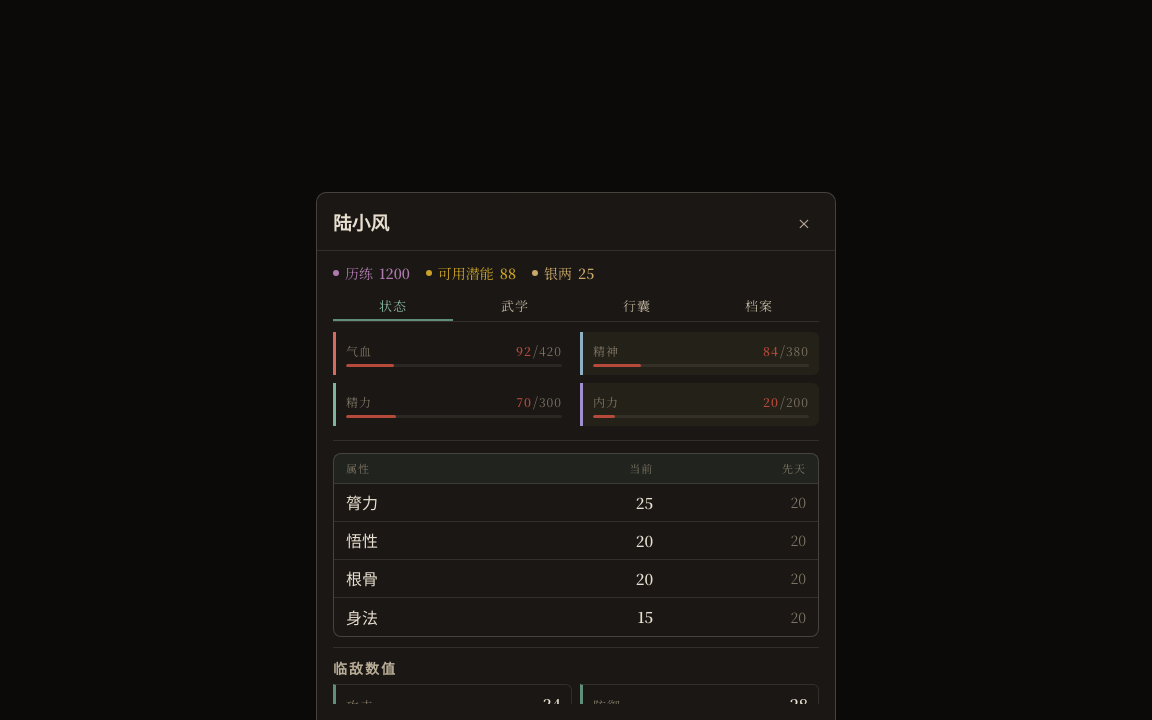
Scenario: CharacterSheet（角色面板） › 武学页：全未学时临敌给出空态说明
This screenshot has width=1152, height=720.
Click the tab "武学".
click(515, 307)  # box x1=455 y1=293 x2=575 y2=321
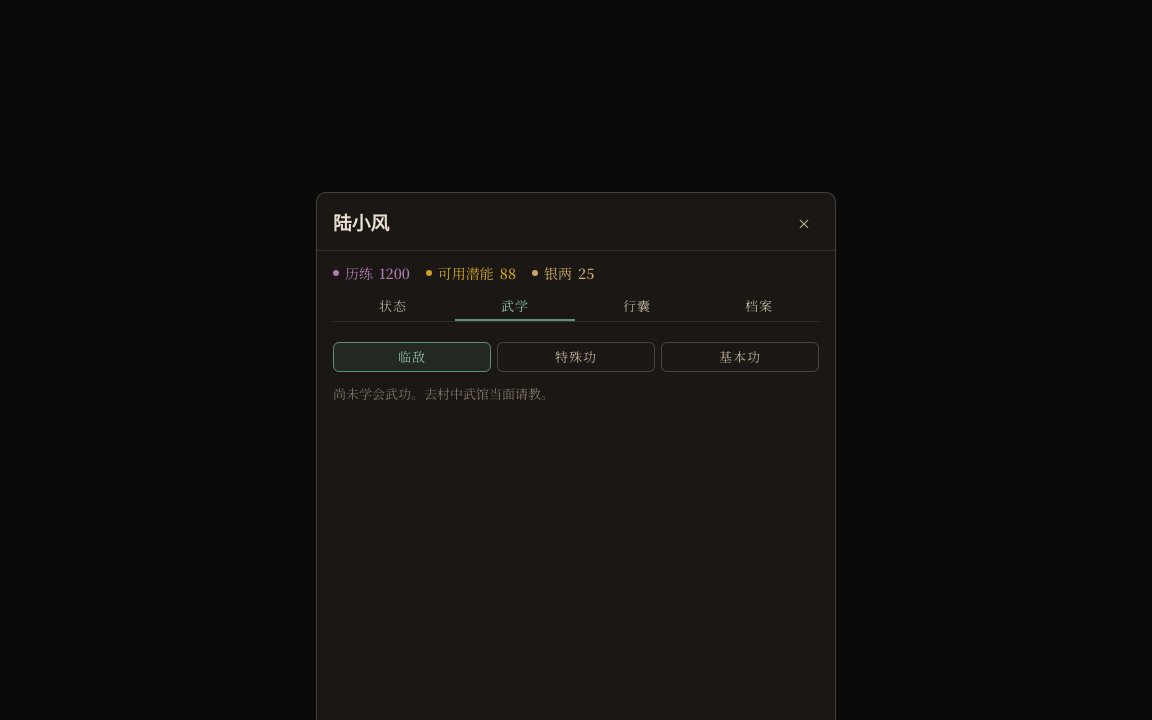
expect the text "尚未学会武功" is shown: met, box x1=333 y1=384 x2=554 y2=403
expect the text "当面请教" is shown: met, box x1=333 y1=384 x2=554 y2=403
